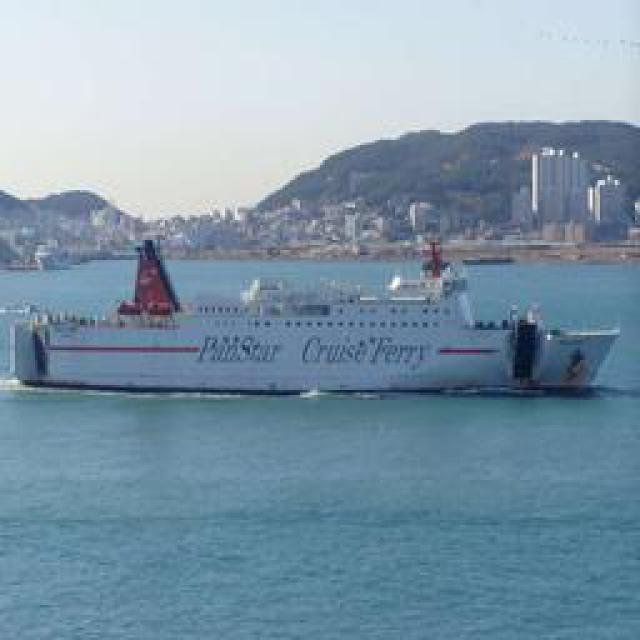Ship: (1, 242, 619, 400)
